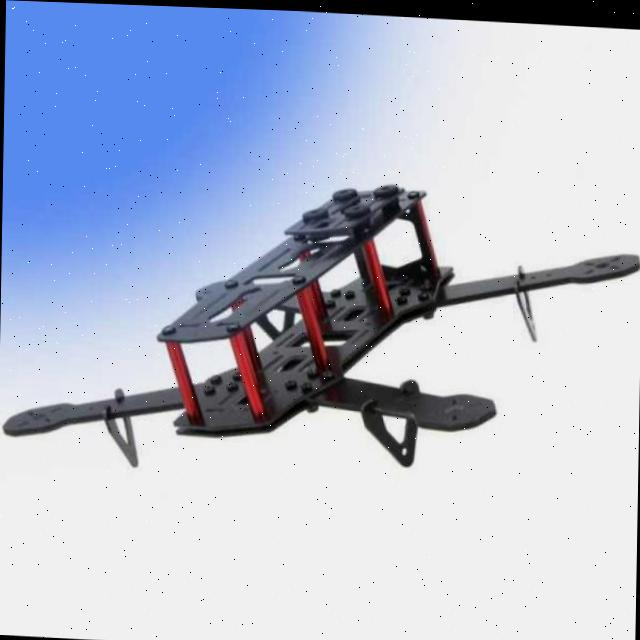drone: (22, 168, 640, 446)
